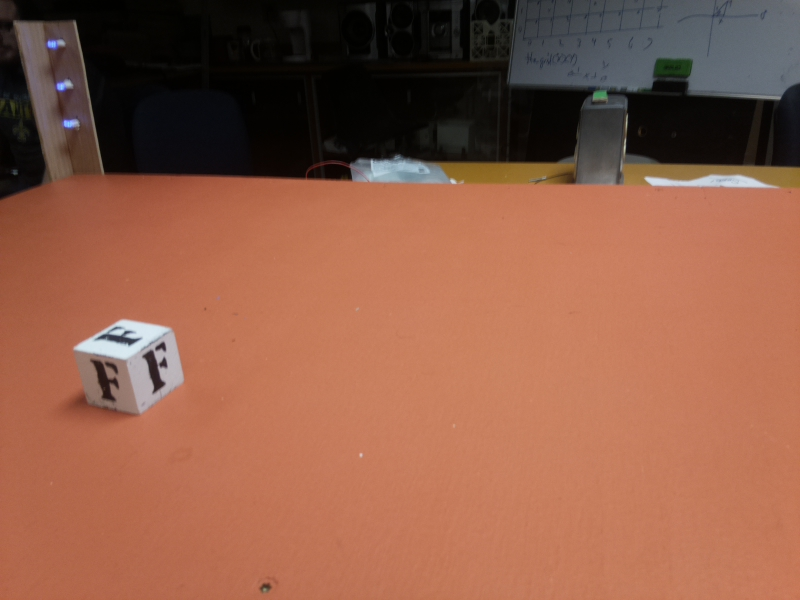blockF: (71, 317, 190, 416)
corner: (14, 17, 110, 181)
